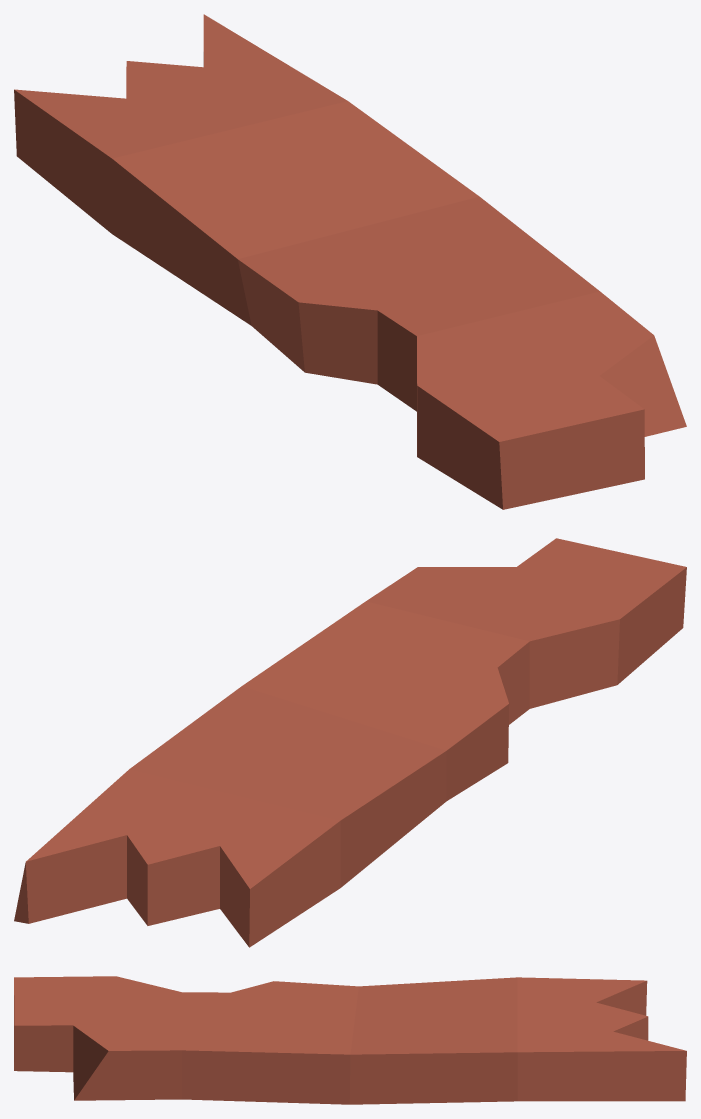
Rendered from woodboard_5b.fbx.
3 views of the same model, one above another, from view 1: azimuth 30°, elevation 25°; view 2: azimuth 150°, elevation 25°; view 3: azimuth 270°, elevation 25° (orthographic). The views are drawn at different scales.
Visible parts, largest first — view 1: woodboard_5b; view 2: woodboard_5b; view 3: woodboard_5b.
Part boxes in pixels (box(x1,y1,x2,y2)): woodboard_5b: box(14, 14, 686, 509); woodboard_5b: box(14, 538, 686, 947); woodboard_5b: box(14, 976, 686, 1104).
Size of the model in its own units: 57.17 by 16.49 by 205.
